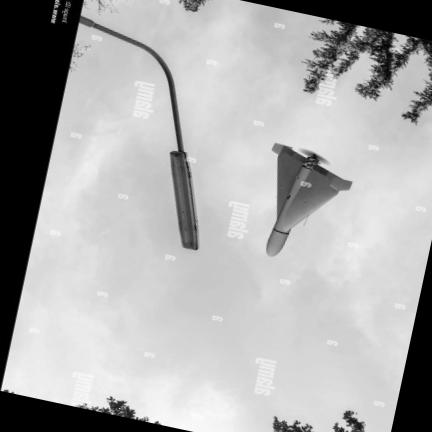Shahed: (266, 143, 351, 255)
